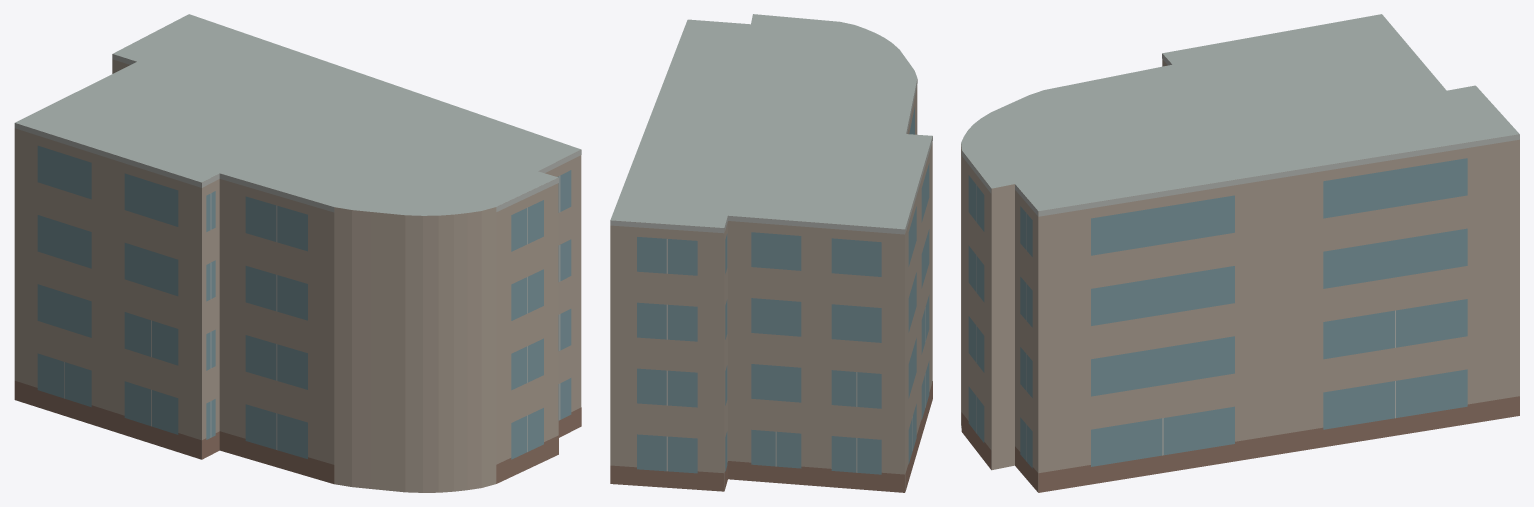
File: survey-upis-33020358.glb
3 renders of one model, left to right at view 1: azimuth 30°, elevation 25°; view 2: azimuth 150°, elevation 25°; view 3: azimuth 270°, elevation 25°, orthographic. The views are drawn at different scales.
Parts seen in each view (by area): view 1: survey-upis-33020358.tmp; view 2: survey-upis-33020358.tmp; view 3: survey-upis-33020358.tmp.
Boxes of the visible parts, x1,y1,x2,y2 form: survey-upis-33020358.tmp: [14, 14, 581, 492]; survey-upis-33020358.tmp: [610, 14, 932, 492]; survey-upis-33020358.tmp: [961, 14, 1519, 492].
Size of the model in its own units: 18.79 by 12.5 by 22.49.
